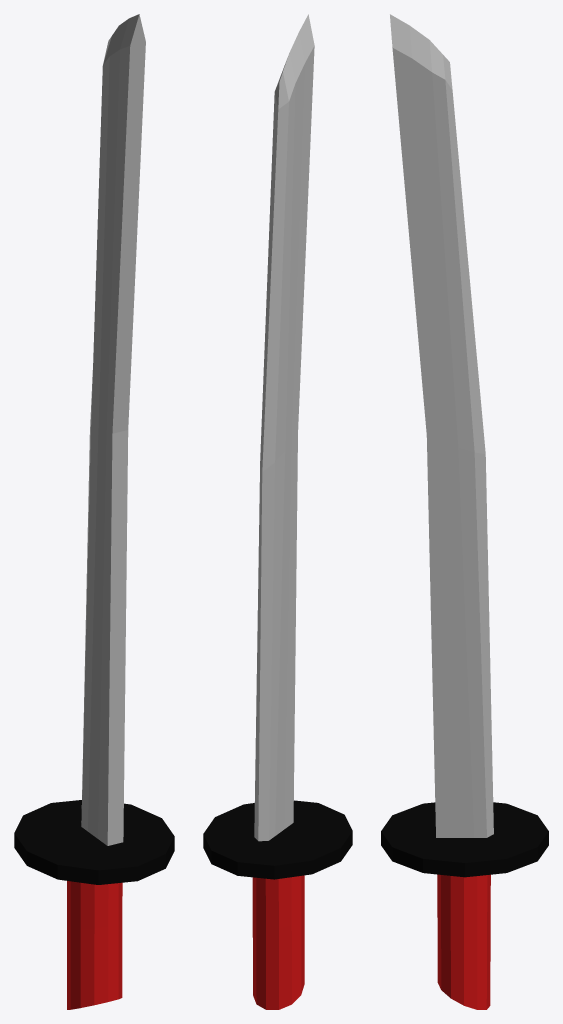
The model's file is Katana.fbx.
3 views of the same model, side by side, from view 1: azimuth 30°, elevation 25°; view 2: azimuth 150°, elevation 25°; view 3: azimuth 270°, elevation 25° (orthographic). The views are drawn at different scales.
Parts seen in each view (by area): view 1: Cylinder.002; view 2: Cylinder.002; view 3: Cylinder.002.
Part boxes in pixels (x1,y1,x2,y2): Cylinder.002: (14, 14, 174, 1009); Cylinder.002: (203, 14, 352, 1009); Cylinder.002: (381, 14, 548, 1009).
Bounding box in the file's own units: 34.35 × 250 × 38.21.
